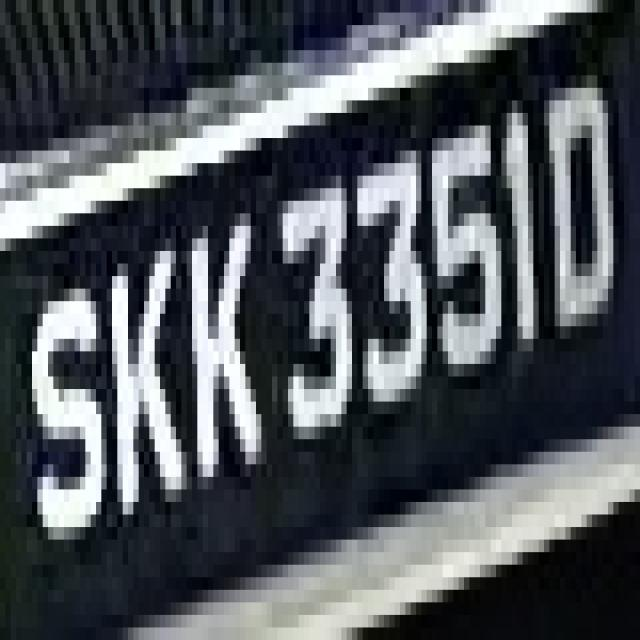1: (491, 38, 538, 376)
3: (262, 113, 358, 477), (357, 88, 427, 452)
5: (421, 101, 507, 414)
D: (533, 38, 619, 402)
K: (171, 176, 256, 564), (91, 176, 176, 540)
S: (16, 226, 117, 565)
